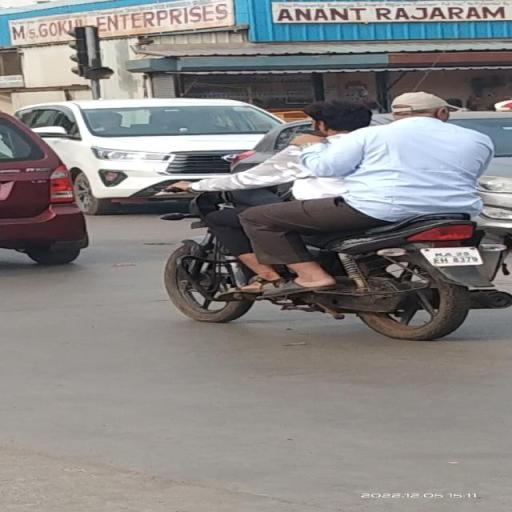bike: (159, 88, 510, 340)
numberplate: (424, 245, 482, 268)
withouthelmet: (310, 102, 366, 133), (397, 91, 444, 119)
